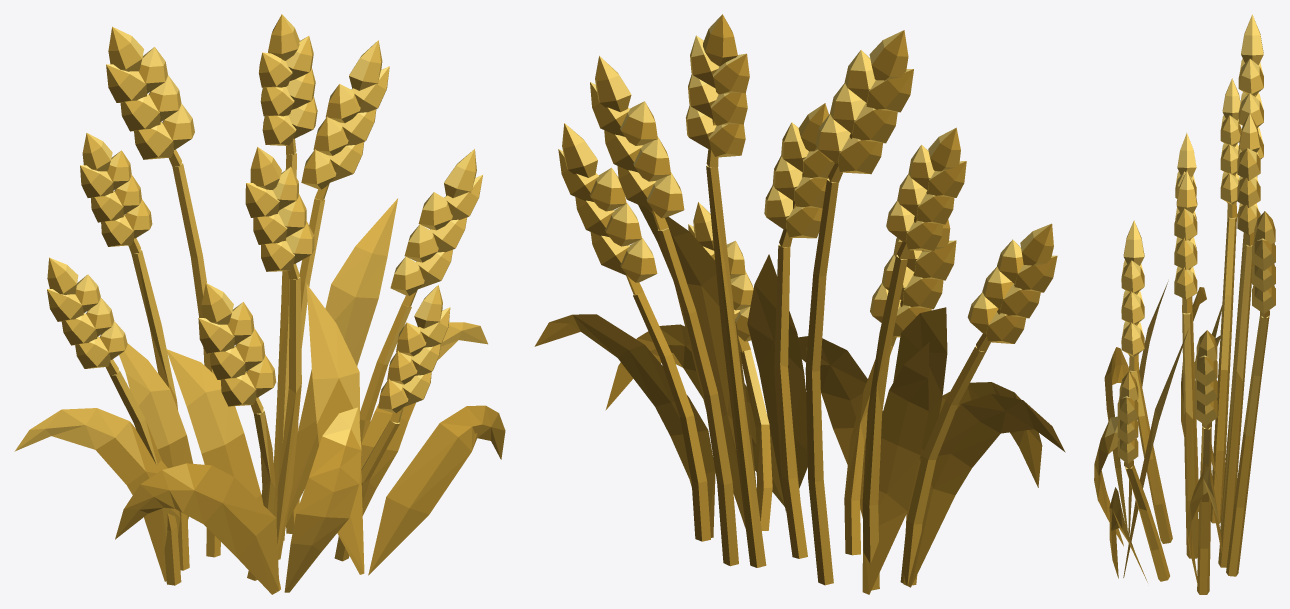
File: FMS_Crop_Wheat_S3.fbx
3 views of the same model, side by side, from view 1: azimuth 30°, elevation 25°; view 2: azimuth 150°, elevation 25°; view 3: azimuth 270°, elevation 25° (orthographic). The views are drawn at different scales.
Visible parts, largest first — view 1: FMS_Crop_Wheat_S3; view 2: FMS_Crop_Wheat_S3; view 3: FMS_Crop_Wheat_S3.
Part boxes in pixels (x1,y1,x2,y2): FMS_Crop_Wheat_S3: (14, 14, 505, 594); FMS_Crop_Wheat_S3: (534, 14, 1065, 594); FMS_Crop_Wheat_S3: (1094, 14, 1275, 594).
Bounding box in the file's own units: 0.9296 × 0.9985 × 0.3378.
